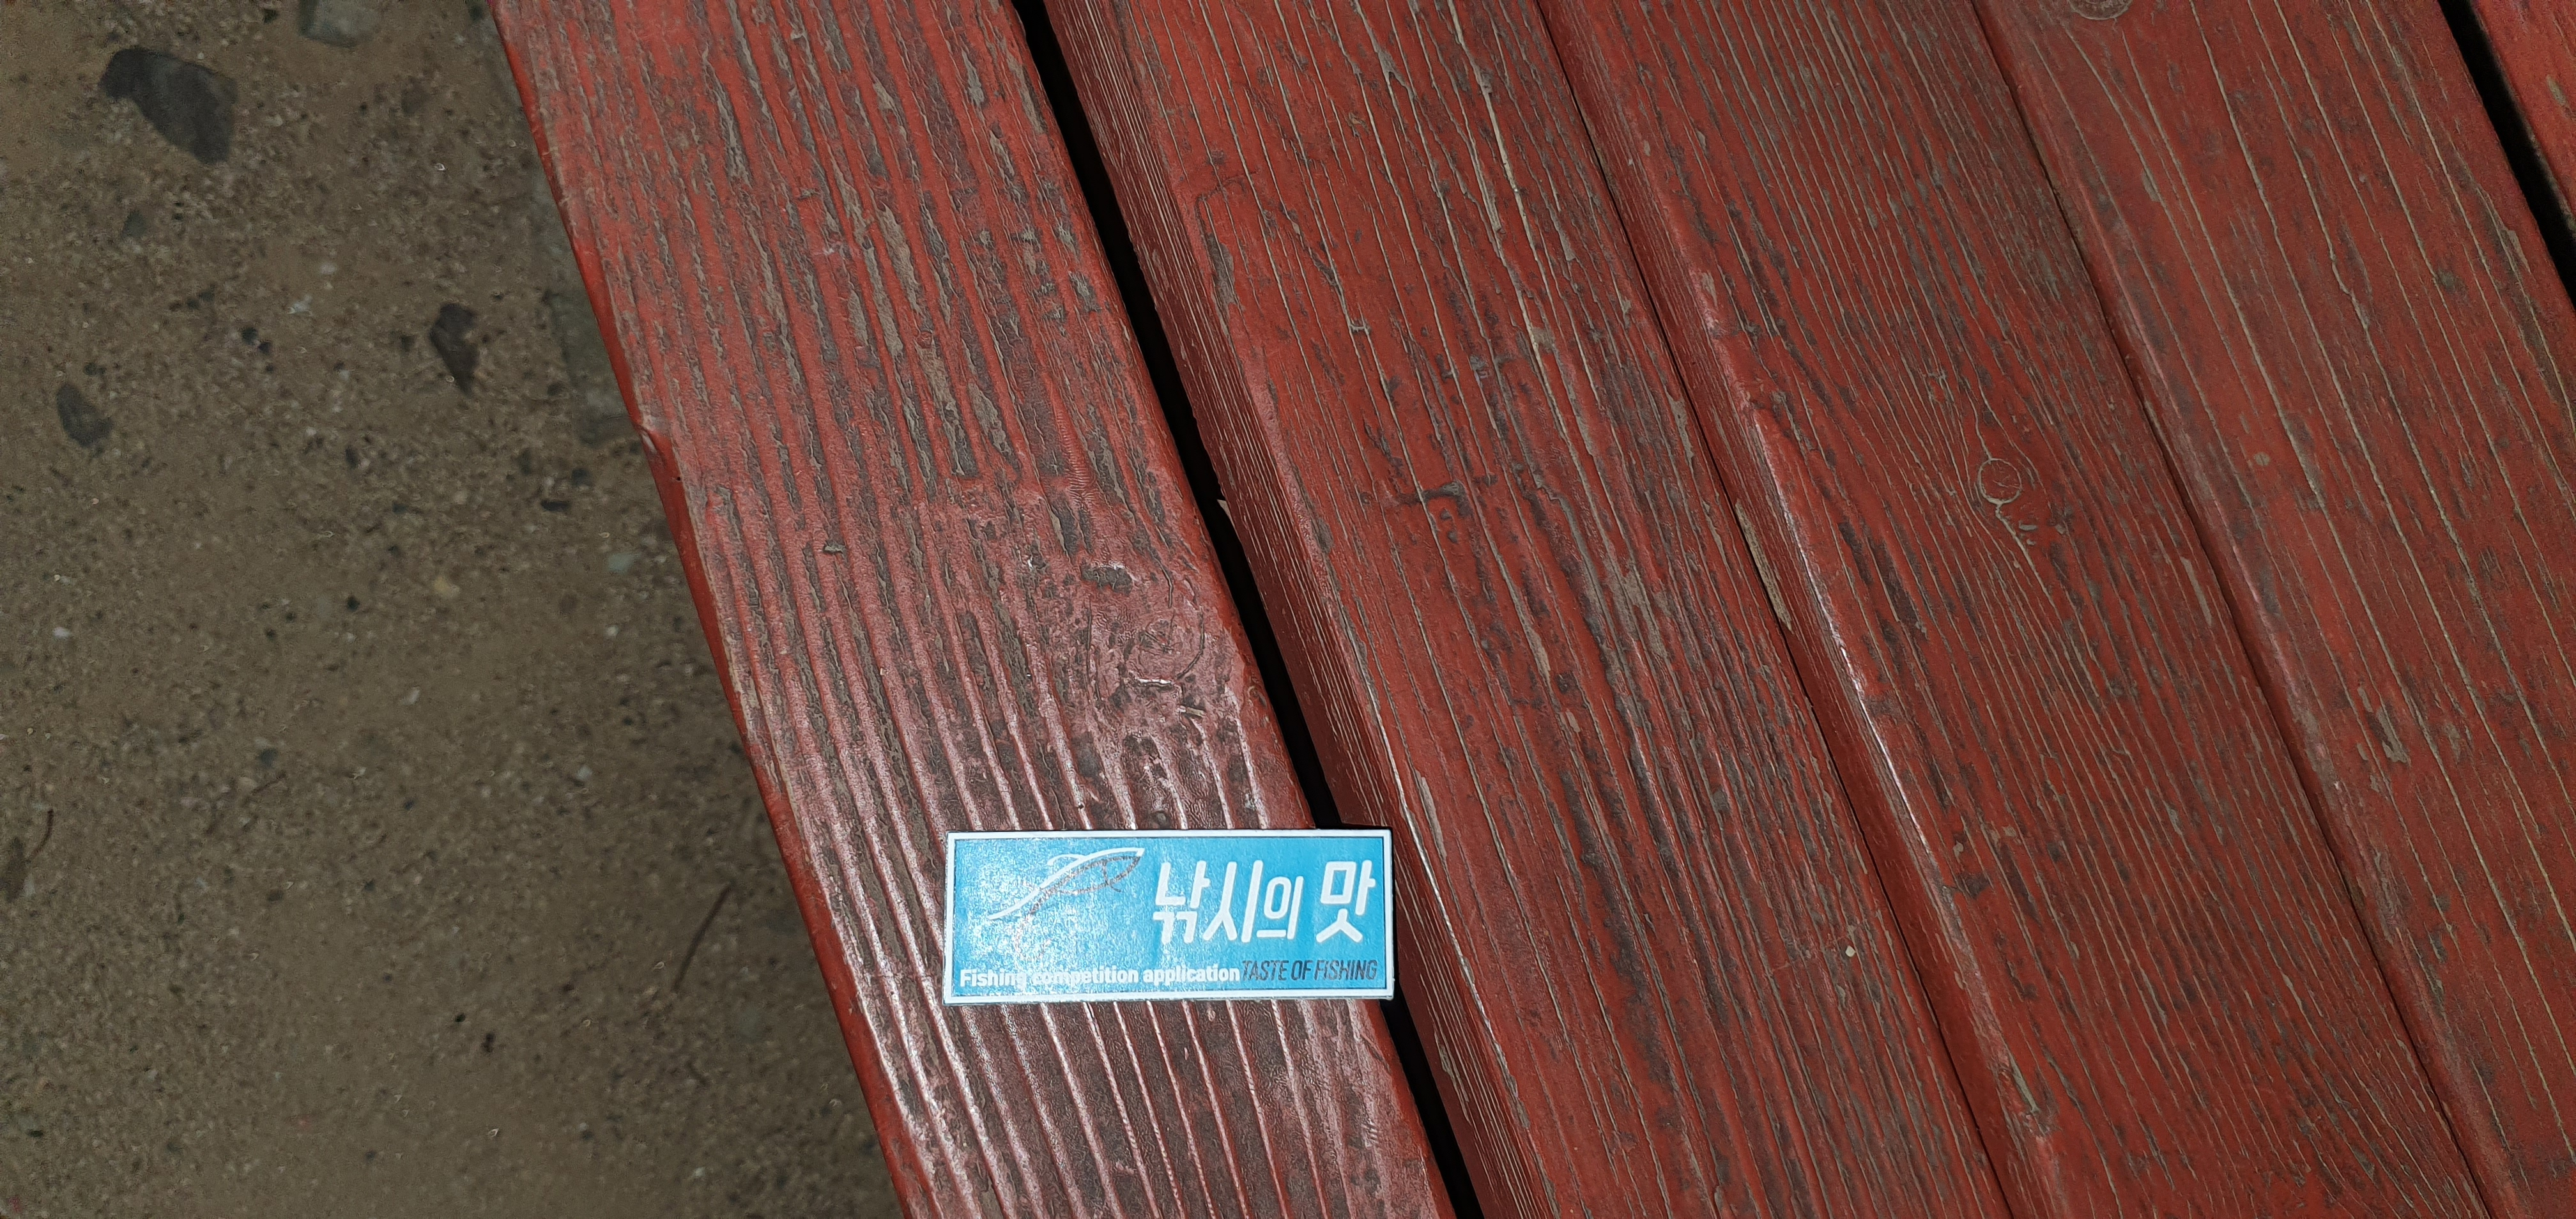tag: (945, 831, 1393, 1004)
